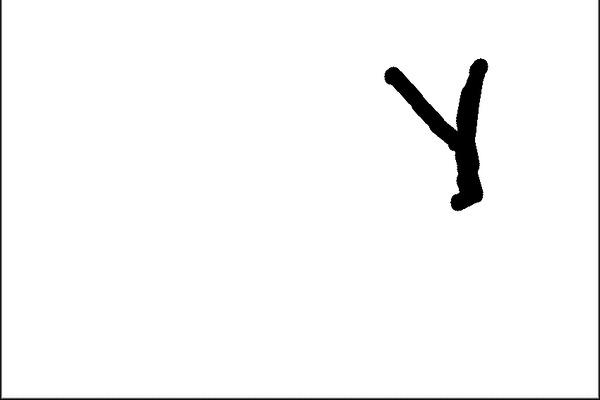Y: (367, 48, 503, 226)
